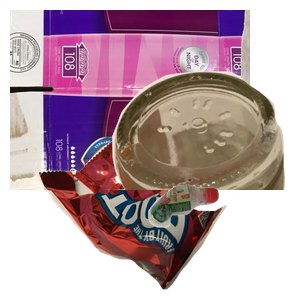cardboard: (10, 10, 250, 190)
glass: (89, 69, 300, 249)
plastic: (146, 182, 300, 300)
trash: (34, 136, 253, 300)
